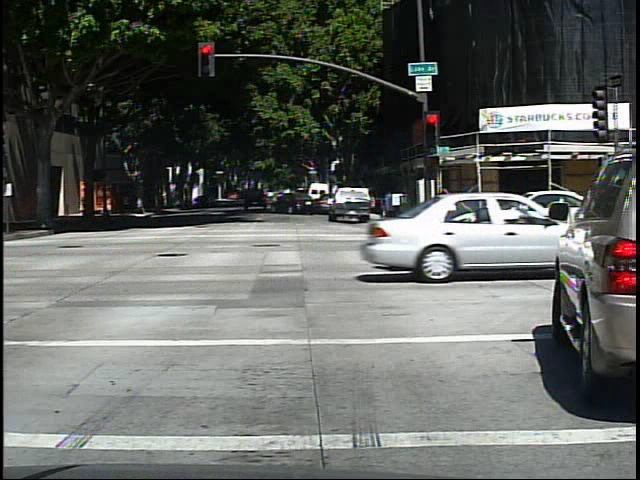person: (76, 186, 93, 220)
